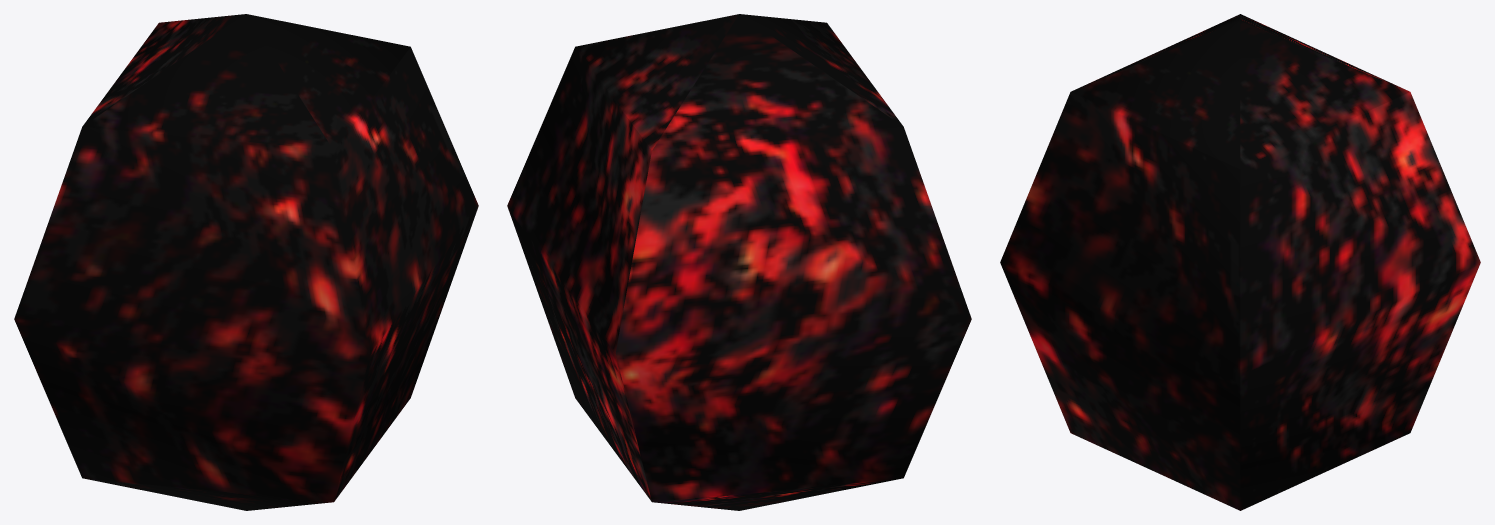
File: bgrnd54-low.obj
3 renders of one model, left to right at view 1: azimuth 30°, elevation 25°; view 2: azimuth 150°, elevation 25°; view 3: azimuth 270°, elevation 25°, orthographic. The views are drawn at different scales.
Parts seen in each view (by area): view 1: frm-sphere7; view 2: frm-sphere7; view 3: frm-sphere7.
Part boxes in pixels (x1,y1,x2,y2): frm-sphere7: (14,14,478,510); frm-sphere7: (507,14,971,510); frm-sphere7: (1000,14,1480,510).
Bounding box in the file's own units: 10.44 × 10.67 × 9.64.
